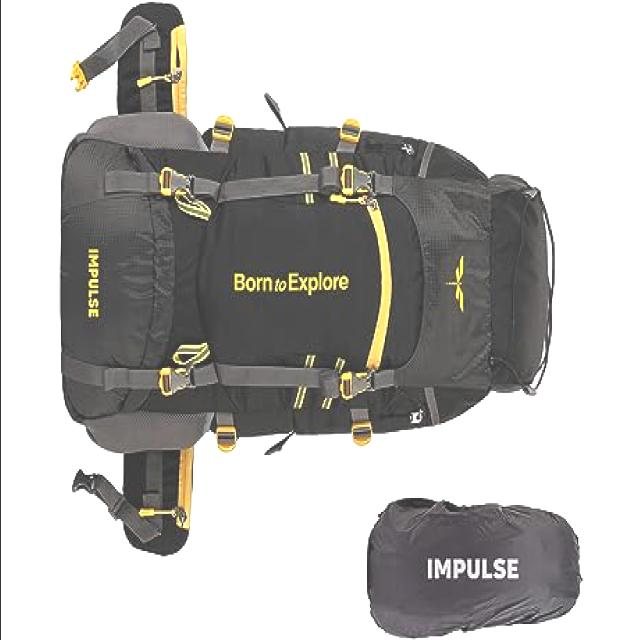backpack: (56, 90, 566, 461)
